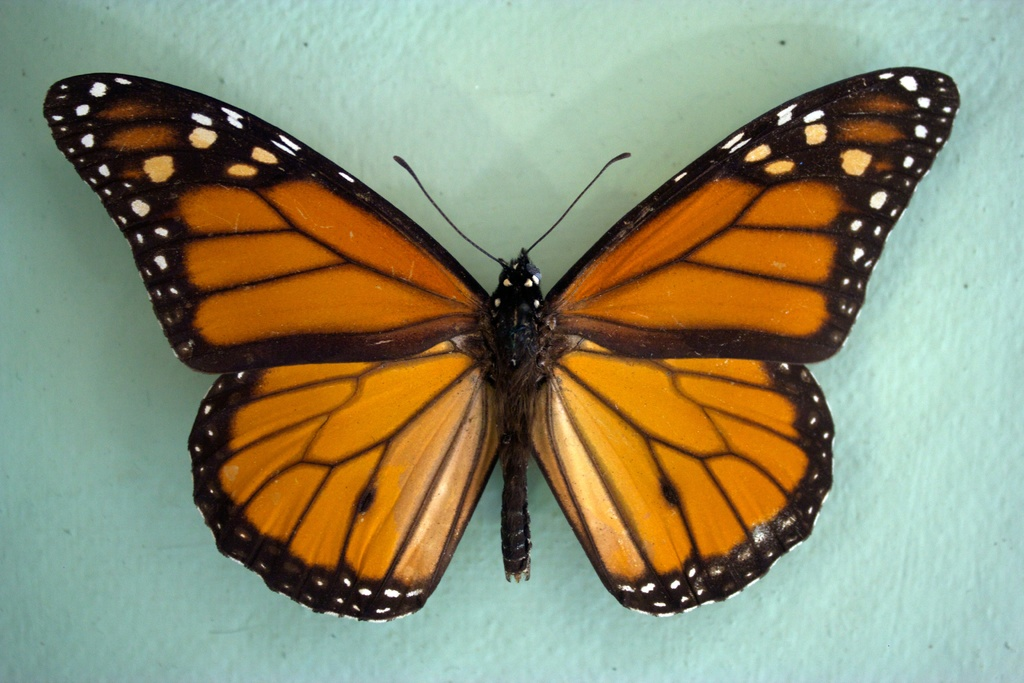Butterfly: (40, 40, 966, 634)
